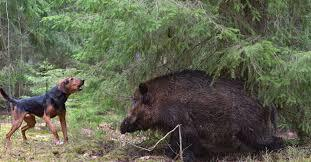dog: (0, 76, 87, 145)
wildboar: (118, 68, 285, 162)
